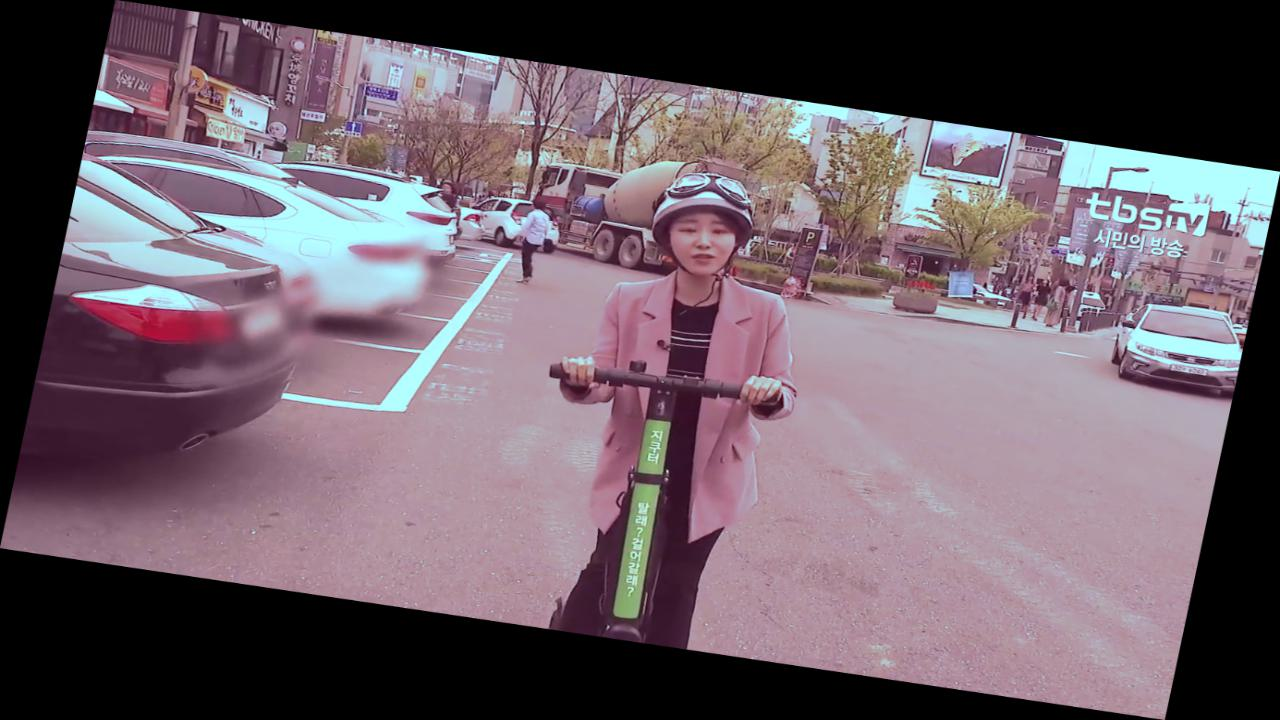helmet: (493, 155, 846, 659)
